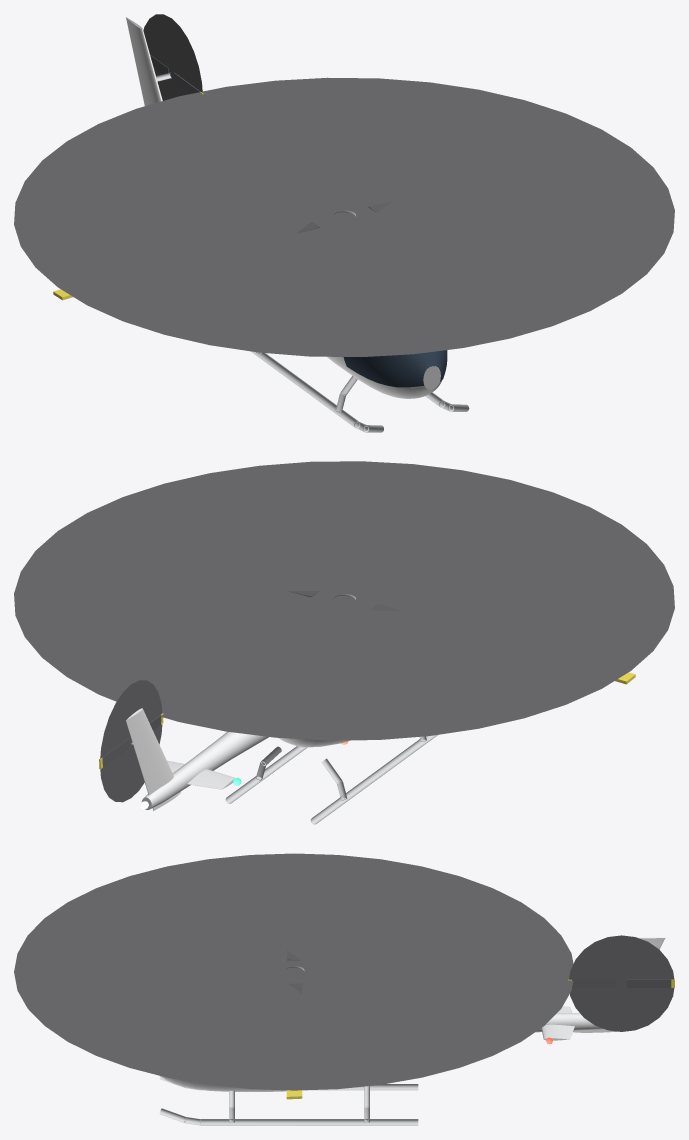
The picture shows the model from 3 angles, top to bottom: view 1: azimuth 30°, elevation 25°; view 2: azimuth 150°, elevation 25°; view 3: azimuth 270°, elevation 25°; orthographic projection. The views are drawn at different scales.
Visible parts, largest first — view 1: airframe; view 2: airframe; view 3: airframe, tail.
Boxes of the visible parts, box(x1,y1,x2,y2) form: airframe: box(14, 14, 674, 432); airframe: box(14, 461, 674, 824); airframe: box(14, 853, 674, 1125); tail: box(568, 979, 674, 987).
Bounding box in the file's own units: 11.3 × 4.01 × 13.31.
